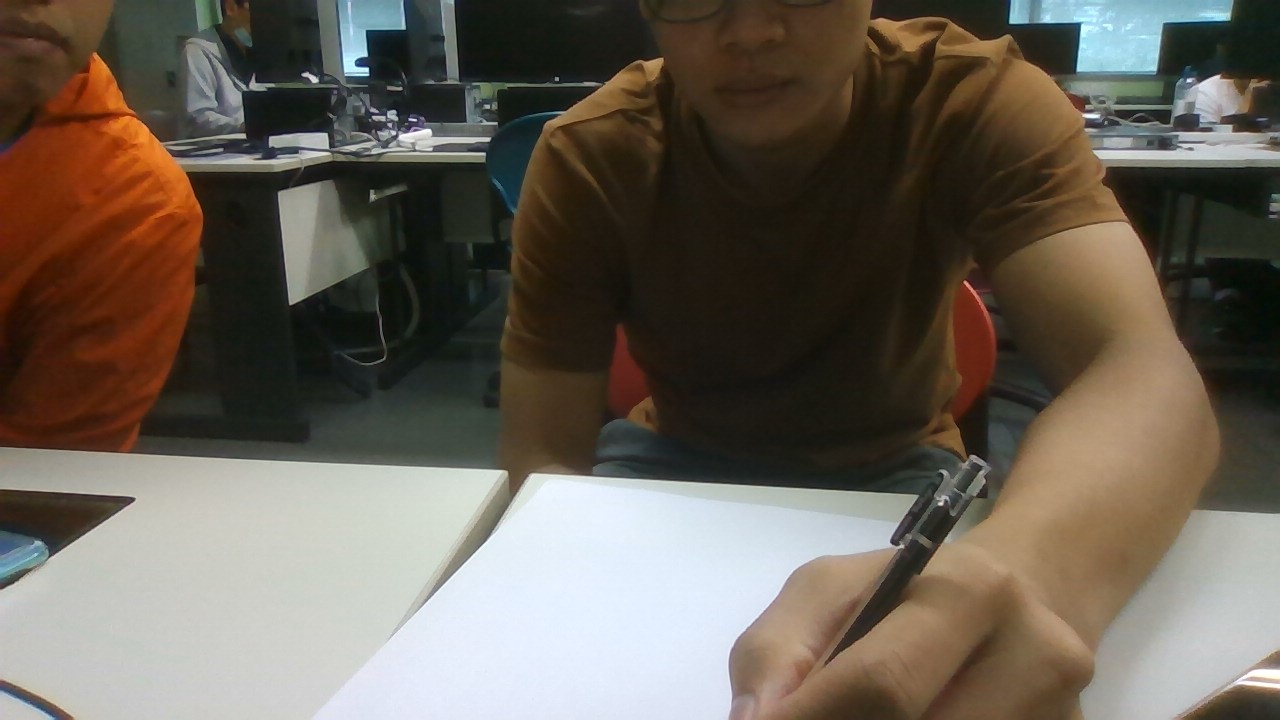pen: (777, 455, 990, 702)
